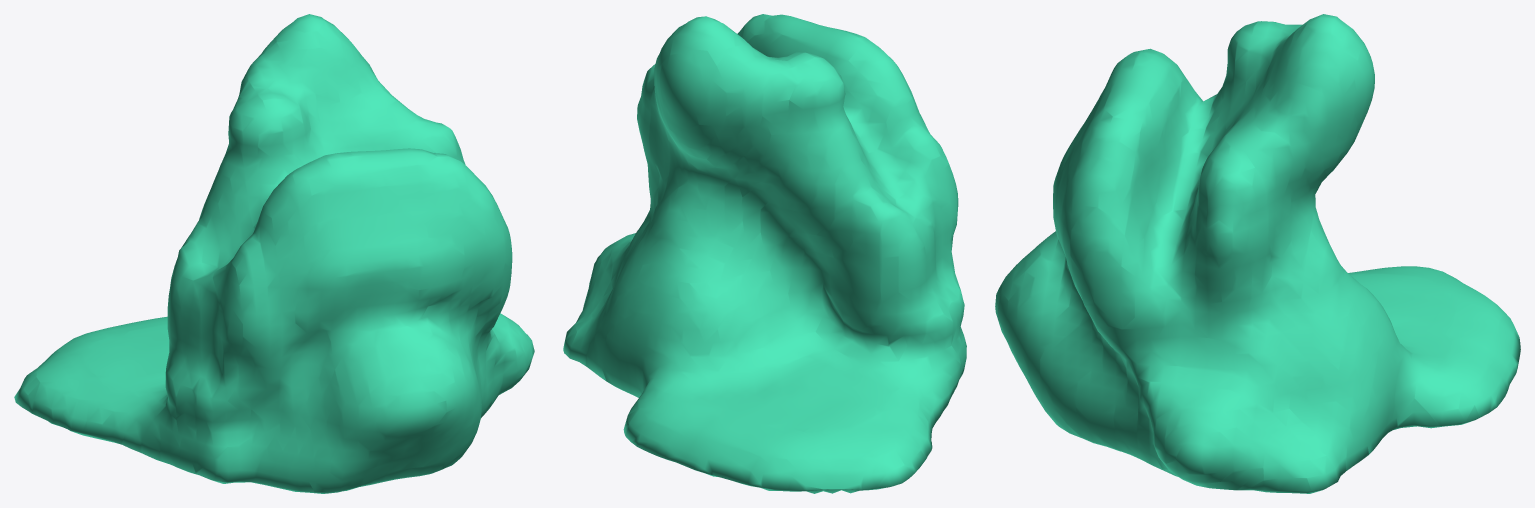
3 renders of one model, left to right at view 1: azimuth 30°, elevation 25°; view 2: azimuth 150°, elevation 25°; view 3: azimuth 270°, elevation 25°, orthographic. The views are drawn at different scales.
Visible parts, largest first — view 1: Liquid_Domain; view 2: Liquid_Domain; view 3: Liquid_Domain.
Boxes of the visible parts, x1,y1,x2,y2 form: Liquid_Domain: (14,14,534,493); Liquid_Domain: (563,14,966,493); Liquid_Domain: (995,14,1520,493).
Size of the model in its own units: 5.17 by 4.51 by 5.26.
